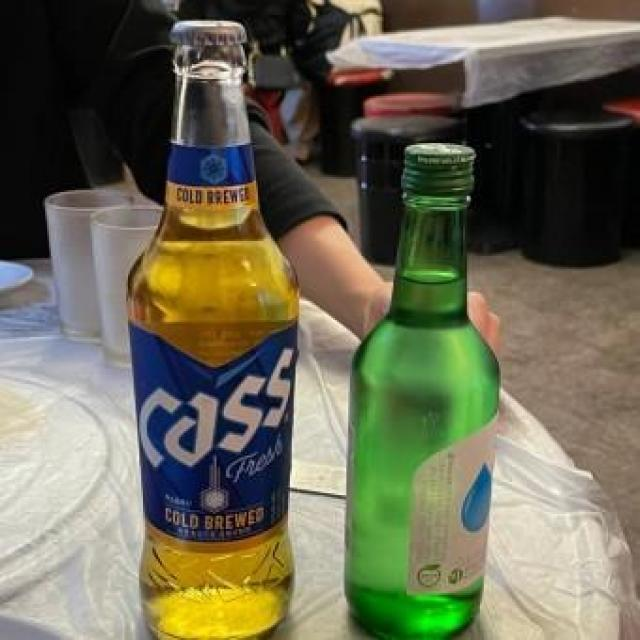beer-bottle: (132, 17, 316, 640)
soju-bottle: (330, 141, 536, 640)
